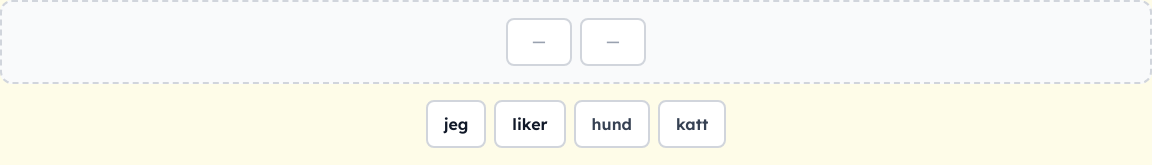
Scenario: WordBankInput › removes word when selected word is clicked
The width and height of the screenshot is (1152, 165).
What coordinates should you click on to do the following:
click the button "jeg"
I would click on:
 (456, 124)
Its box is top-left (426, 100), bottom-right (486, 148).
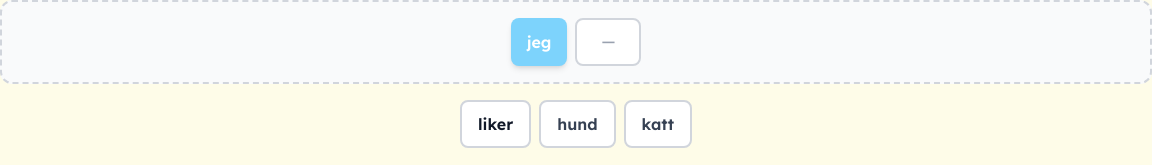
What coordinates should you click on to do the following:
click the button "jeg"
I would click on:
 (539, 42)
Its box is top-left (511, 18), bottom-right (567, 66).
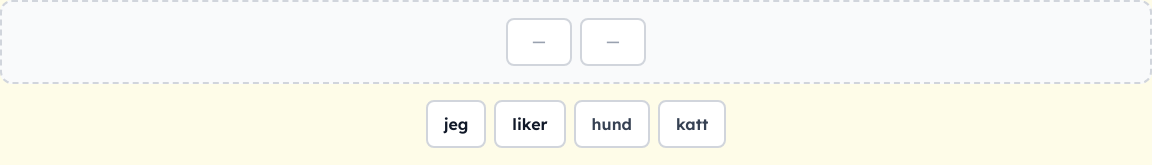
Expected: the element named "available" shows "jeg", top-left (426, 100), bottom-right (486, 148)
